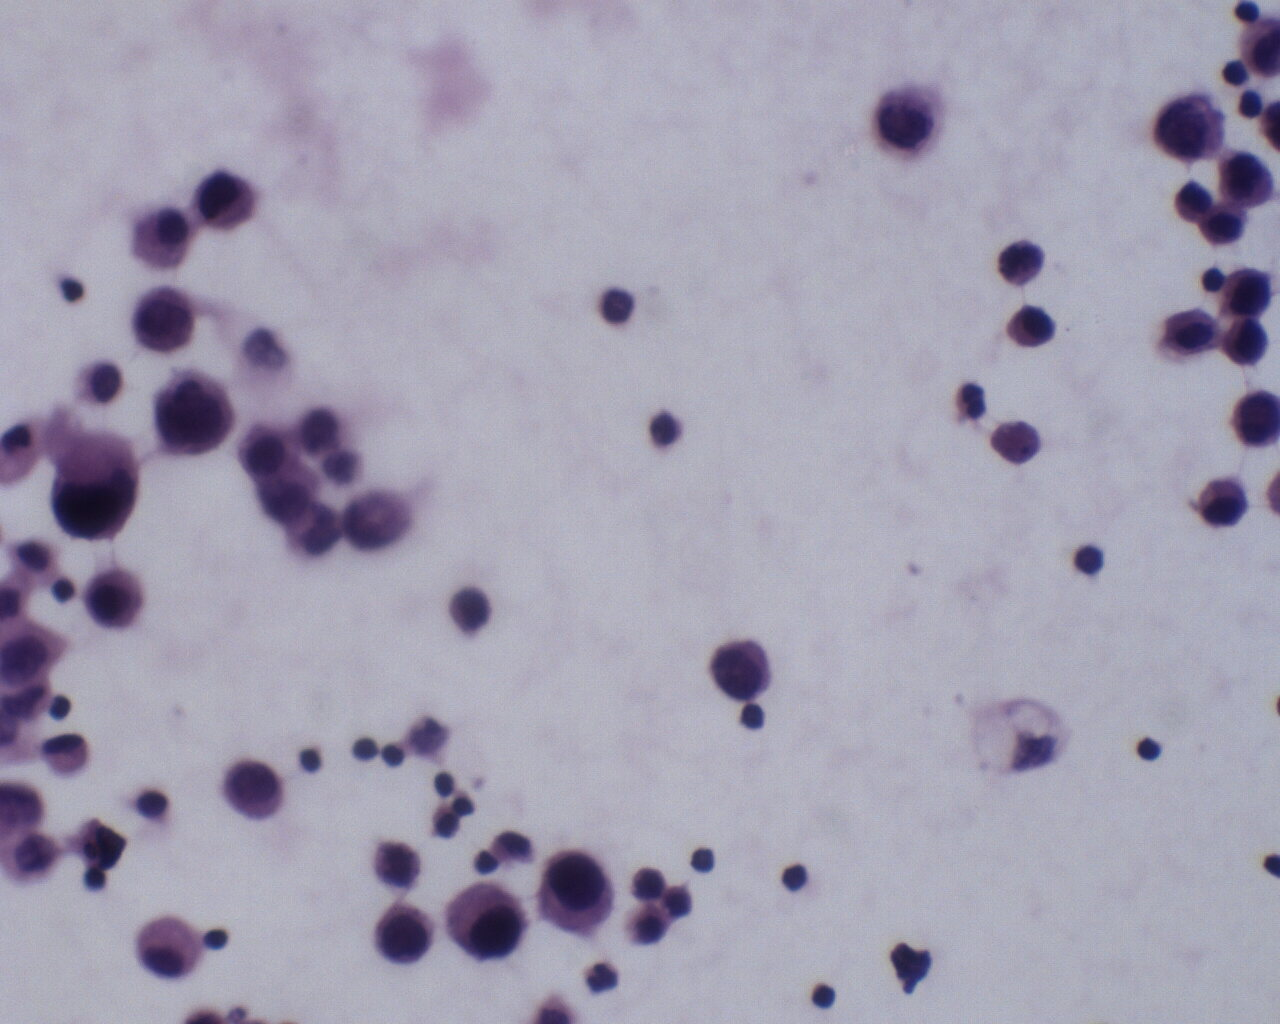ab: (44, 420, 144, 543), (146, 364, 237, 463), (535, 846, 616, 937), (448, 882, 528, 964), (869, 82, 948, 162), (1148, 85, 1225, 163), (133, 279, 205, 357), (704, 635, 779, 704), (197, 161, 263, 236), (218, 753, 286, 823), (82, 561, 148, 631), (373, 899, 436, 964), (1217, 148, 1280, 213), (1228, 386, 1280, 449), (1223, 264, 1278, 317), (1223, 317, 1273, 372)
lymph: (1068, 538, 1117, 580), (775, 861, 816, 900), (808, 976, 844, 1017)
meso: (130, 911, 203, 986)
neutro: (951, 376, 994, 427), (580, 958, 622, 997)
